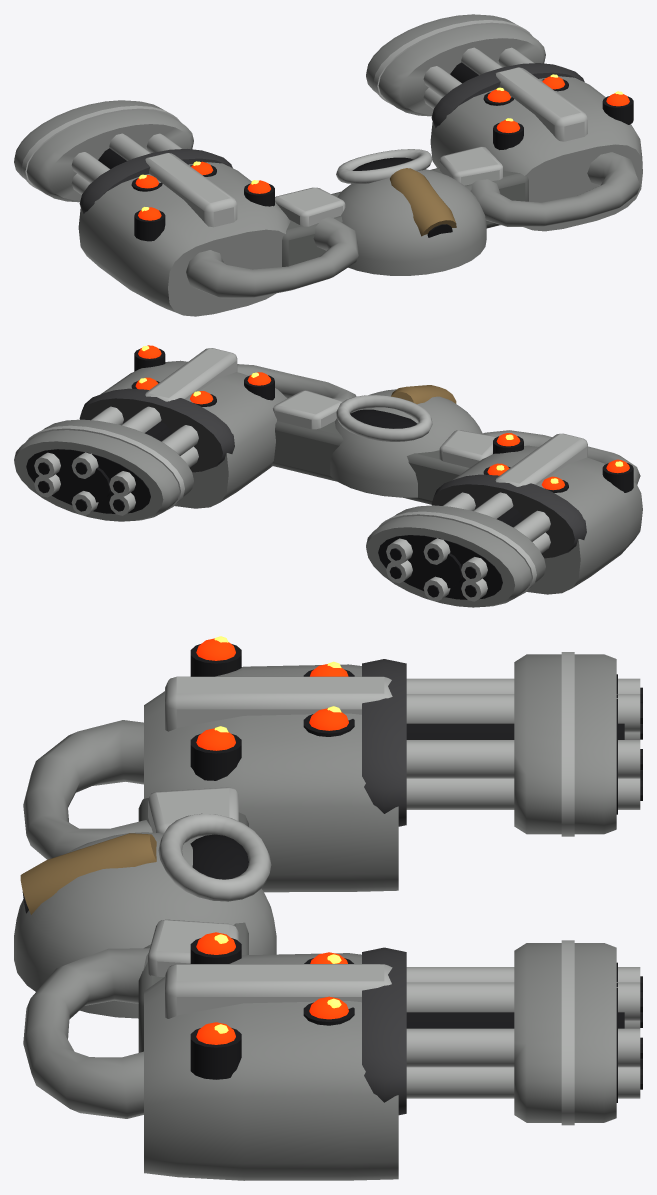
Rendered from store_gun_13.glb.
3 renders of one model, top to bottom at view 1: azimuth 30°, elevation 25°; view 2: azimuth 150°, elevation 25°; view 3: azimuth 270°, elevation 25°, orthographic. The views are drawn at different scales.
Parts seen in each view (by area): view 1: steel, steel_light, steel_dark, black, bridge, nozzle, lamp_red; view 2: steel, steel_light, black, steel_dark, bridge, lamp_red, nozzle; view 3: steel, steel_light, black, steel_dark, lamp_red, nozzle, bridge.
Boxes of the visible parts, x1,y1,x2,y2 form: steel: (14,14,642,316); steel_light: (21,20,587,227); steel_dark: (79,63,584,213); black: (98,62,633,241); bridge: (282,167,528,266); nozzle: (390,168,456,236); lamp_red: (135,76,629,220); steel: (14,360,642,607); steel_light: (26,348,587,601); black: (26,348,633,599); steel_dark: (79,388,586,558); bridge: (271,397,469,504); lamp_red: (135,345,629,490); nozzle: (391,385,456,404); steel: (14,654,616,1180); steel_light: (148,652,640,1125); black: (22,644,642,1102); steel_dark: (362,659,406,1115); lamp_red: (196,638,348,1044); nozzle: (20,833,156,914); bridge: (138,798,248,1052).
Size of the model in its own units: 75.6 by 15.01 by 47.9.
